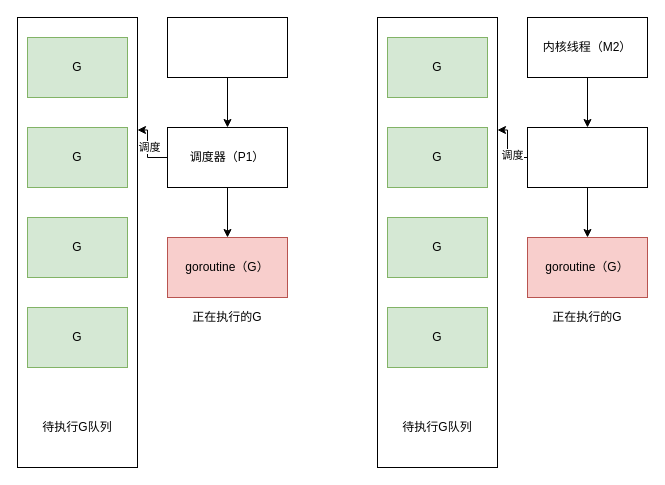
Image size: 665x485. Some labels were removed from this diagram. The shapes that lost their labels are listed below. From the top down, each one's centre as x and y in pixels, then its label:
At (227,47): "内核线程（M1）".
At (587,157): "调度器（P2）".
